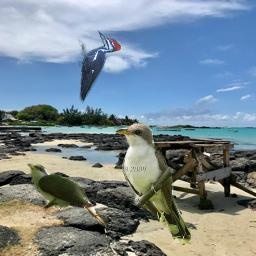Cuckoo: (115, 122, 191, 243), (25, 163, 109, 227)
Woodpecker: (78, 29, 121, 104)
